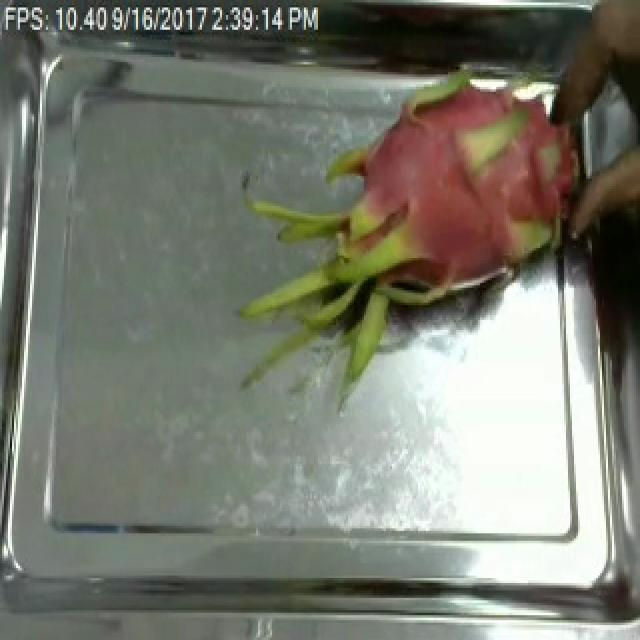fruit: (232, 5, 600, 389)
